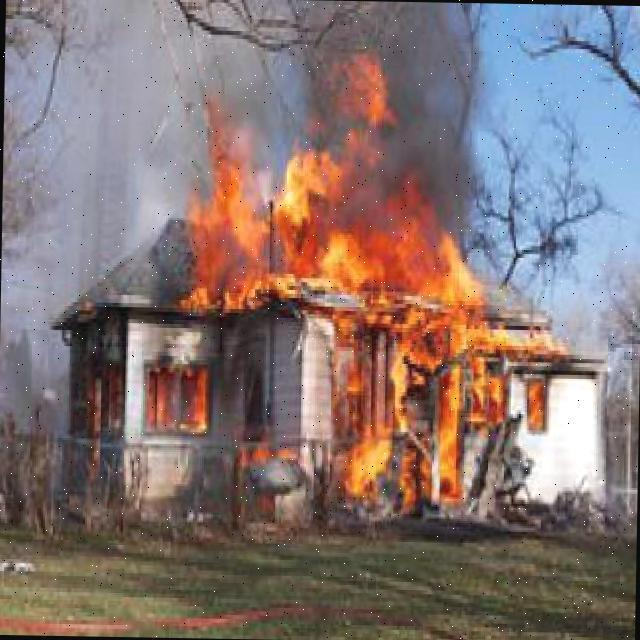Fire: (175, 136, 547, 514)
Smoke: (334, 1, 498, 240)
